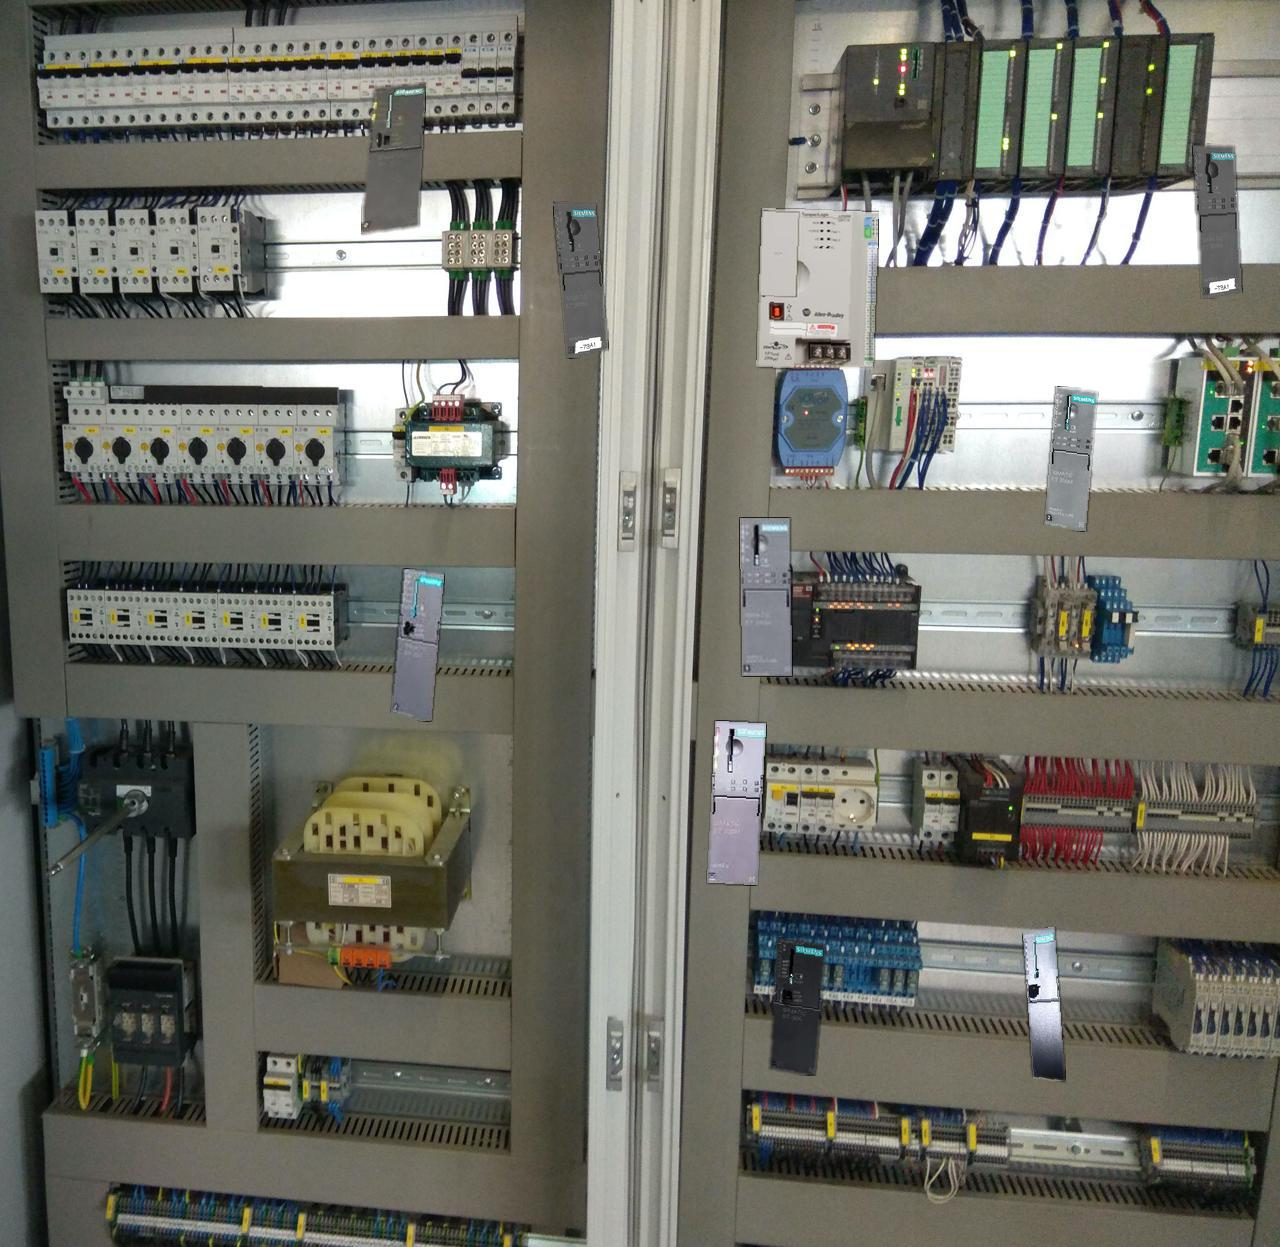AllenBradley: (757, 209, 878, 367)
Siemens: (361, 83, 425, 233), (392, 569, 443, 720), (769, 937, 824, 1076), (1023, 927, 1064, 1080)
